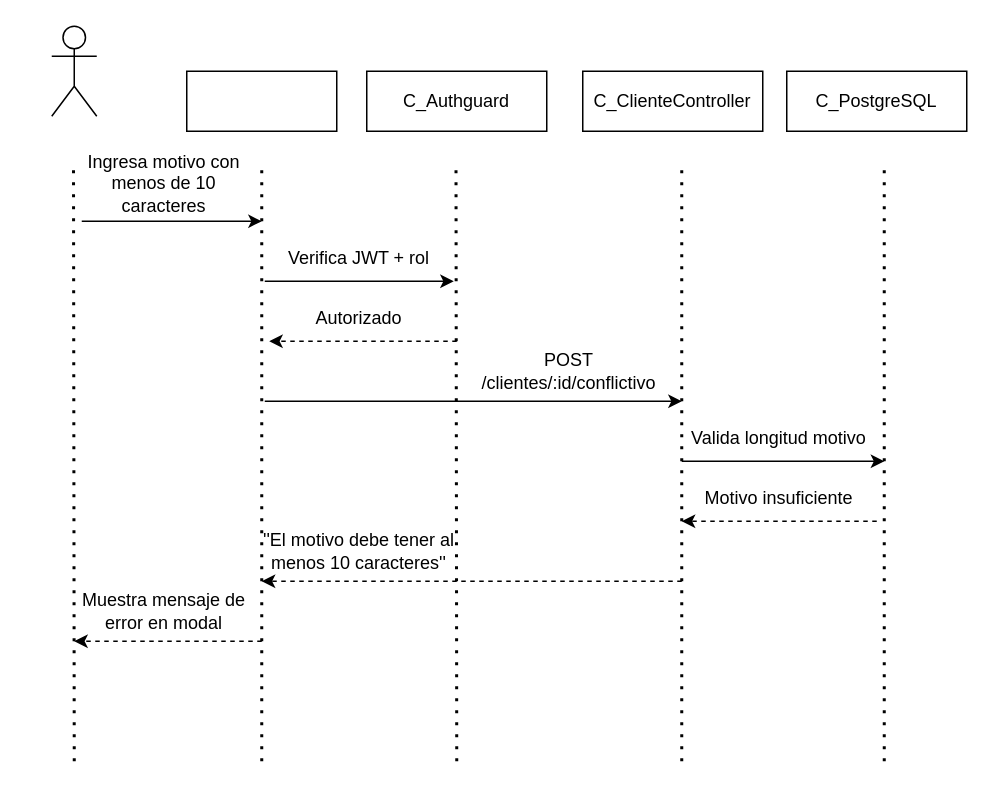
This 993x791 diagram has some shape labels left out. The centre of each missing label's shape, as x and y in pixels:
"Jefe técnico" goes at point 73,70.
"V_Clientes" goes at point 261,100.
